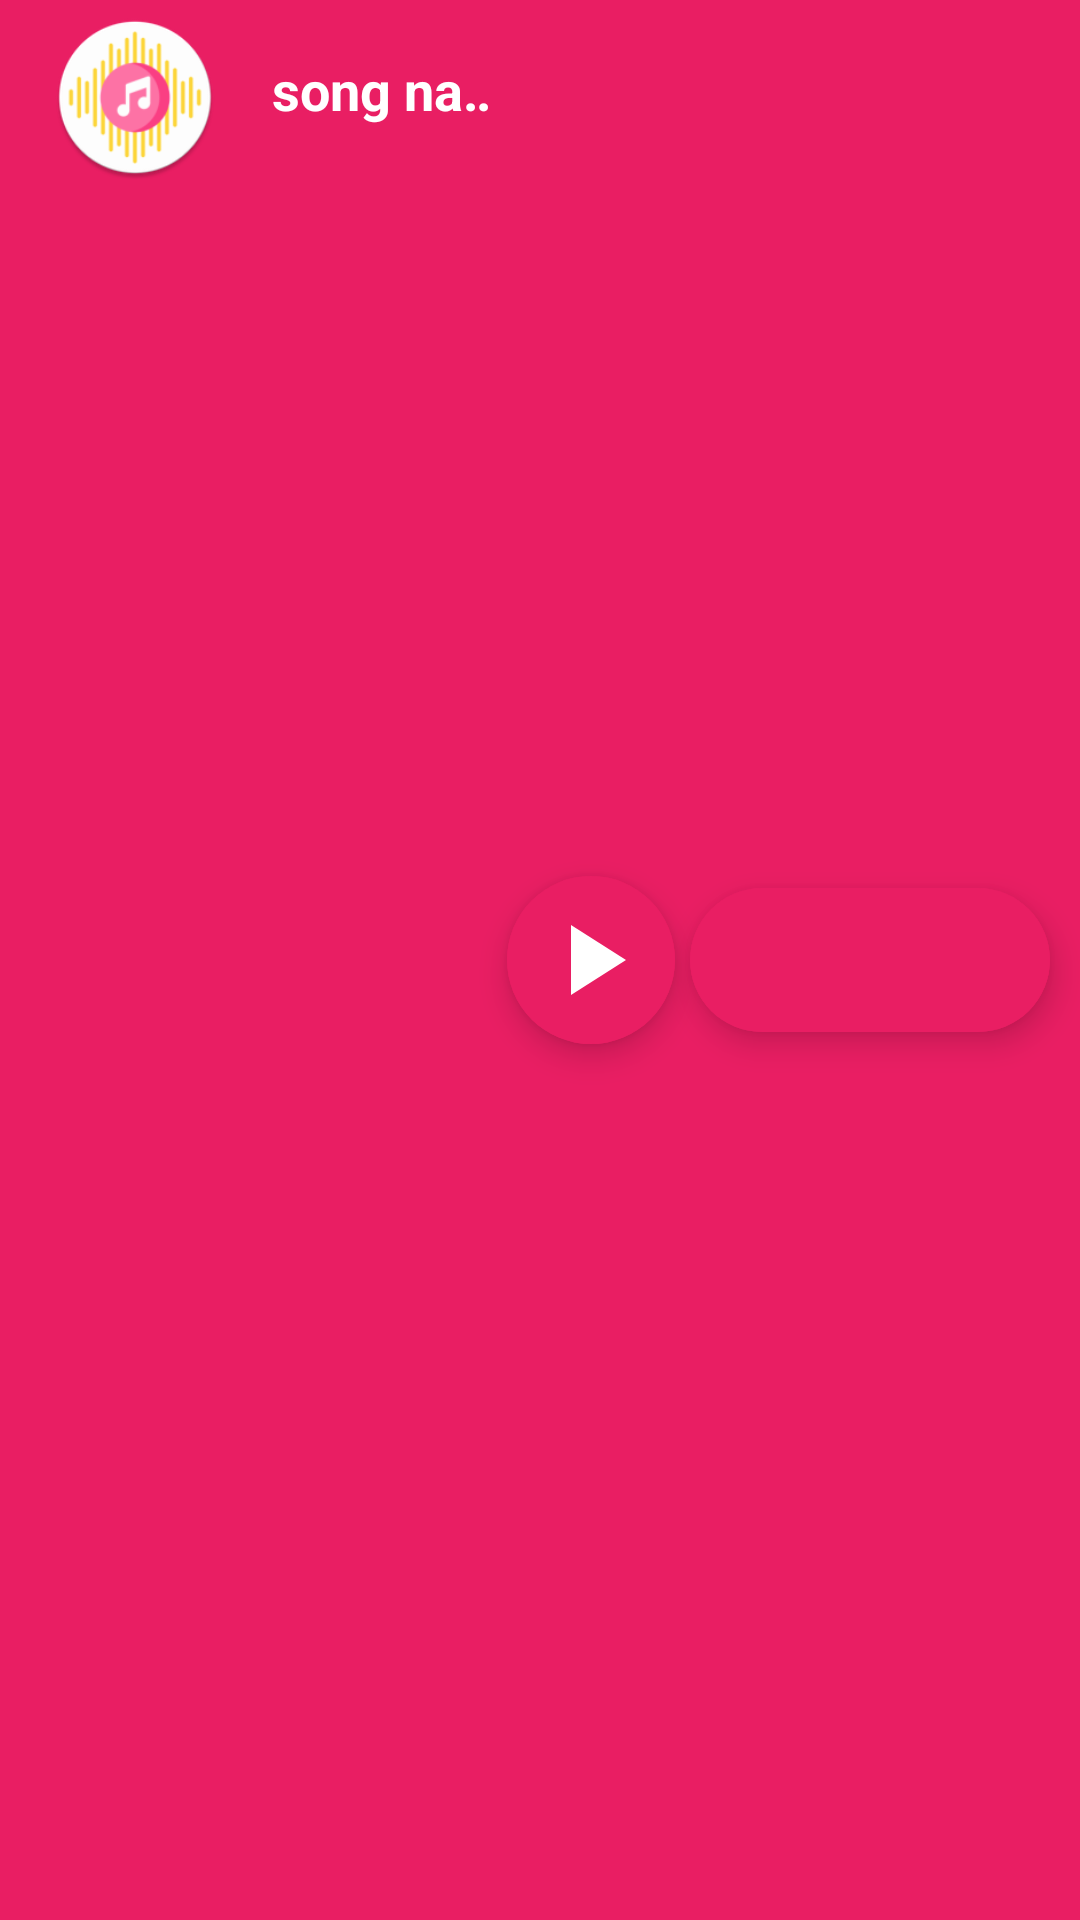

Screen size 1080w x 1920h. Icon name, then its box in pixels as (left=x1, top=y1, right=x2, bottom=y2):
play: (left=518, top=925, right=674, bottom=1044)
